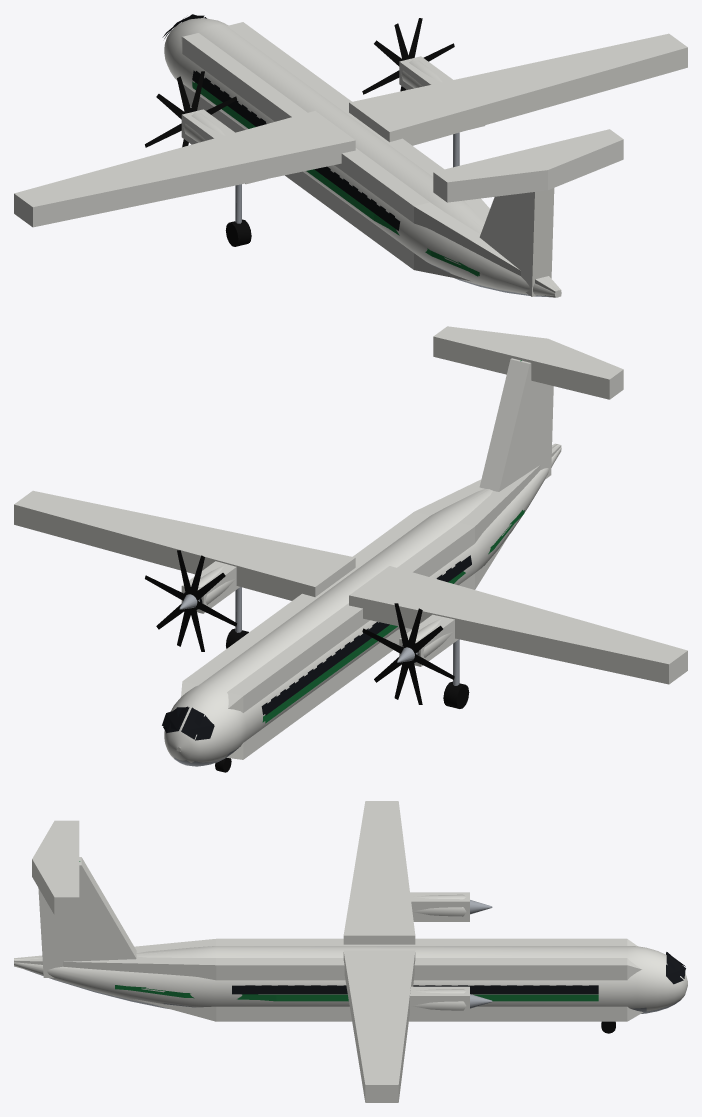
The model's file is bne_ac_turboprop_green.dae.
3 views of the same model, one above another, from view 1: azimuth 30°, elevation 25°; view 2: azimuth 150°, elevation 25°; view 3: azimuth 270°, elevation 25° (orthographic). The views are drawn at different scales.
Visible parts, largest first — view 1: Colmesh_bne_ac_turboprop_green-1, bne_ac_turboprop_green160, bne_ac_turboprop_green16; view 2: Colmesh_bne_ac_turboprop_green-1, bne_ac_turboprop_green160, bne_ac_turboprop_green16; view 3: Colmesh_bne_ac_turboprop_green-1, bne_ac_turboprop_green160, bne_ac_turboprop_green16.
Boxes of the visible parts, x1=… form: Colmesh_bne_ac_turboprop_green-1: x1=14, y1=22, x2=687, y2=297; bne_ac_turboprop_green160: x1=14, y1=15, x2=561, y2=297; bne_ac_turboprop_green16: x1=162, y1=14, x2=559, y2=296; Colmesh_bne_ac_turboprop_green-1: x1=14, y1=326, x2=687, y2=759; bne_ac_turboprop_green160: x1=145, y1=360, x2=686, y2=772; bne_ac_turboprop_green16: x1=162, y1=444, x2=557, y2=771; Colmesh_bne_ac_turboprop_green-1: x1=14, y1=801, x2=643, y2=1102; bne_ac_turboprop_green160: x1=14, y1=861, x2=687, y2=1095; bne_ac_turboprop_green16: x1=15, y1=903, x2=685, y2=1033.
Size of the model in its own units: 27.1 by 27.2 by 7.7.
